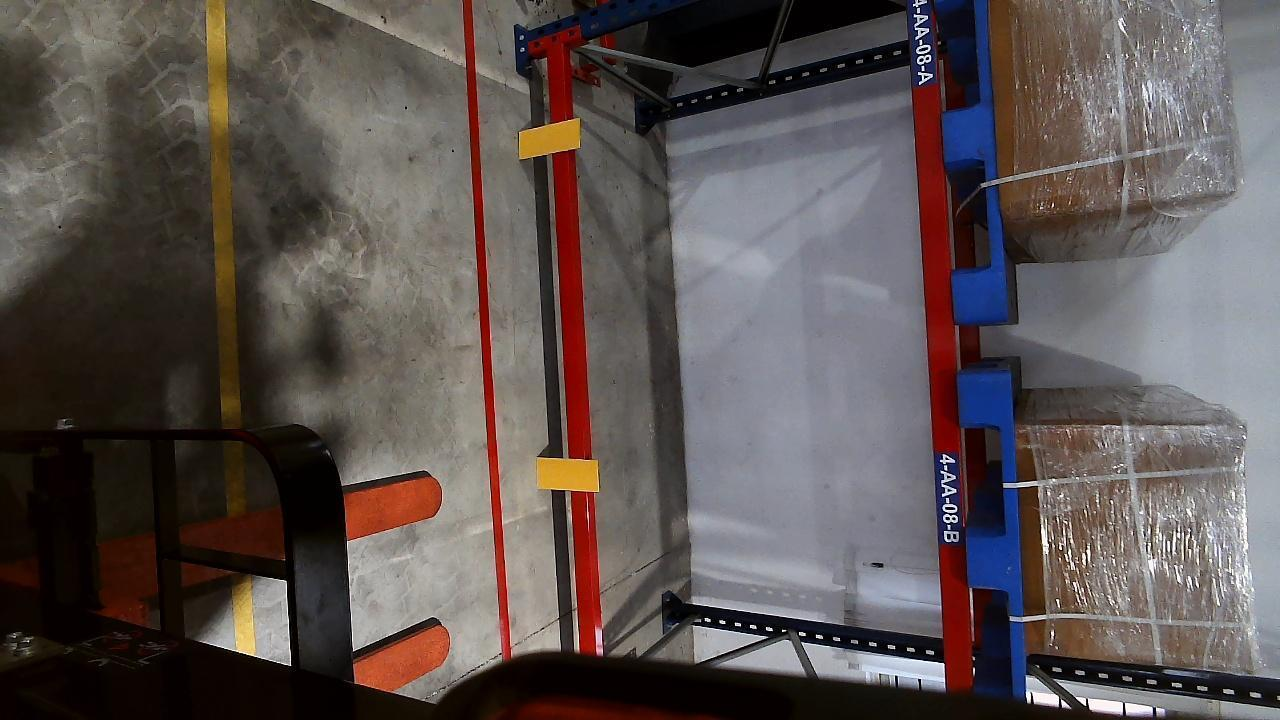red_line: (462, 0, 507, 637)
yellow_line: (205, 0, 244, 426)
